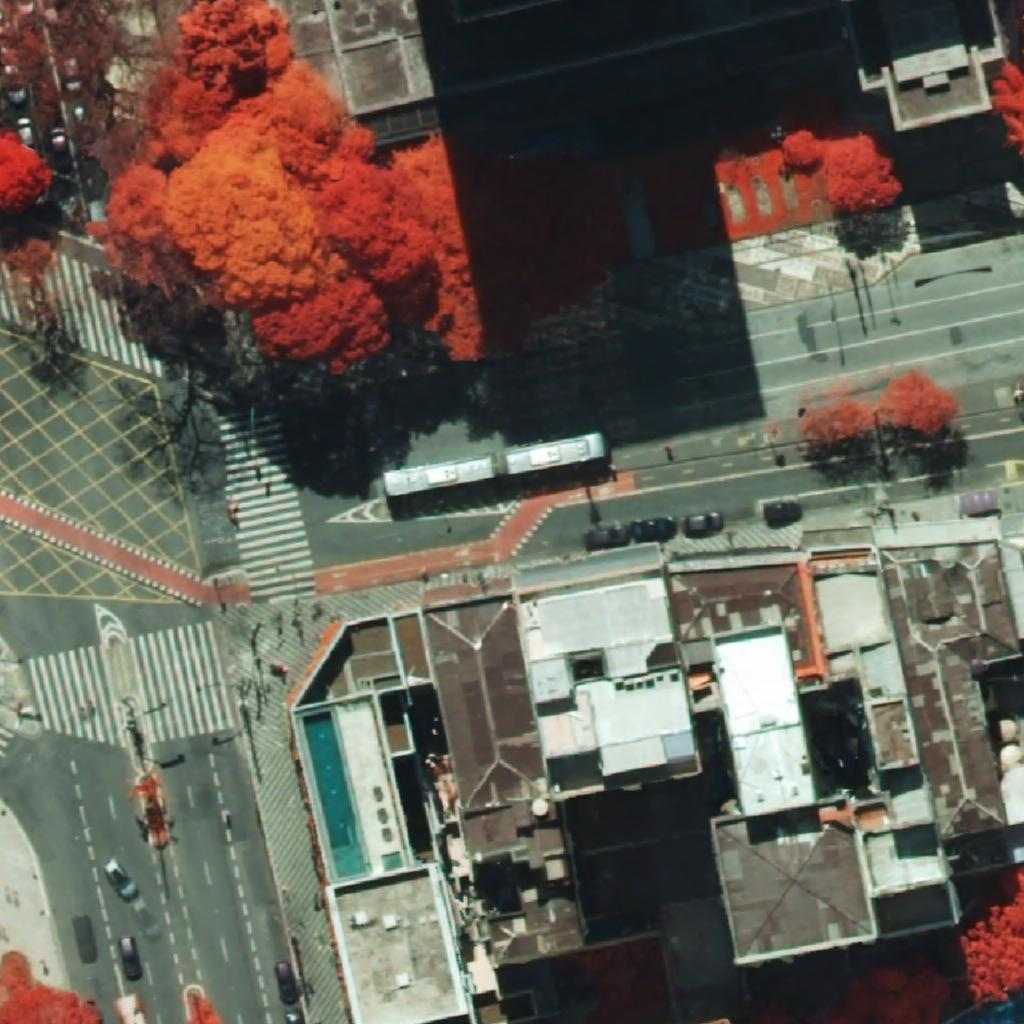pool: (303, 711, 367, 878)
